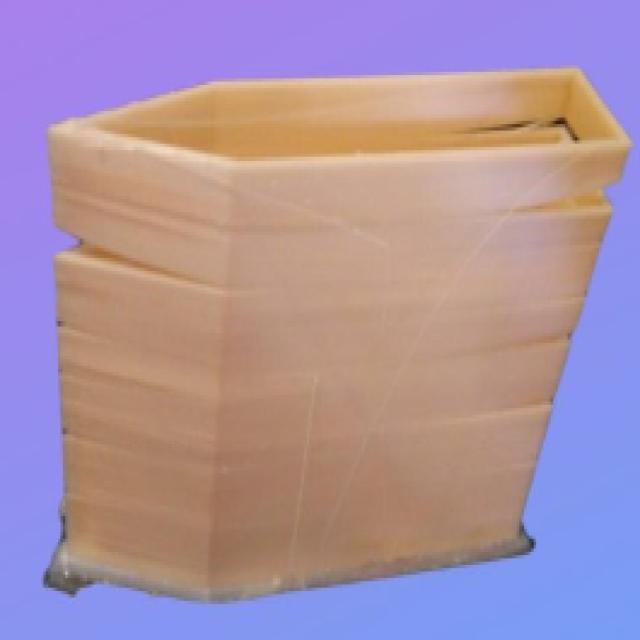cracks: (33, 213, 220, 342), (499, 172, 640, 232), (491, 321, 582, 396)
